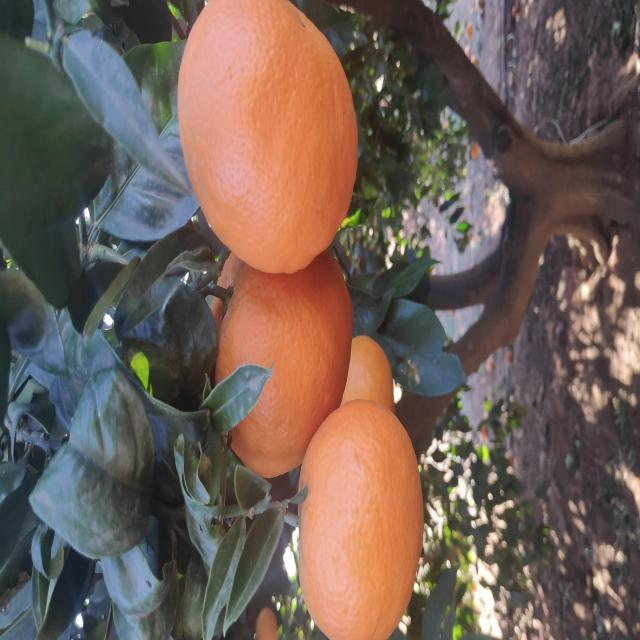Jeruk Sudah Matang: (370, 178, 640, 358), (163, 206, 417, 351), (0, 298, 236, 422), (208, 332, 306, 392), (0, 254, 36, 278)
